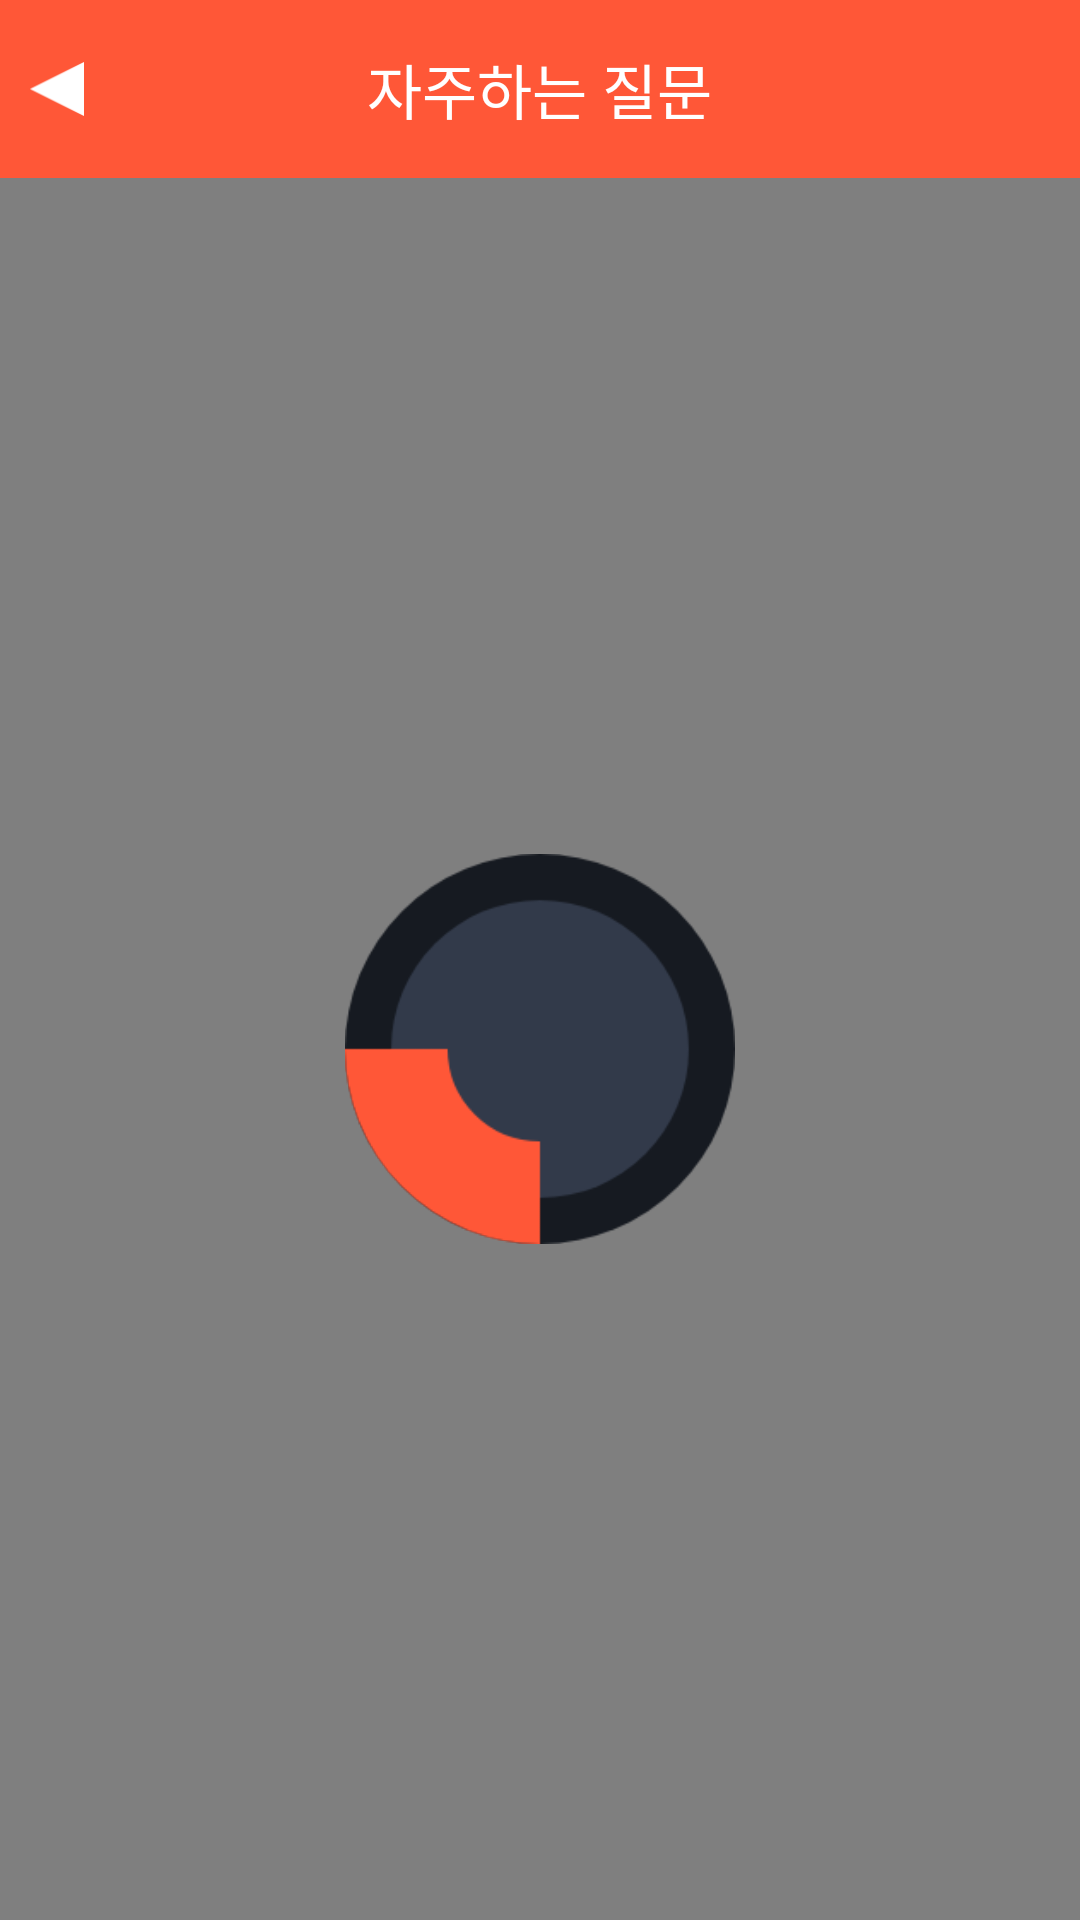

Where to tap for icons on this 1080*1920 app screen, as [x,y]:
arrow: [57,89]
